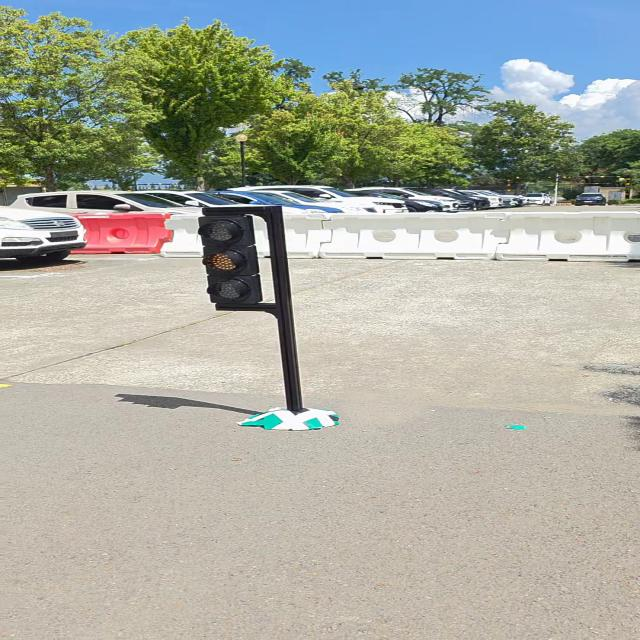yellow: (197, 214, 267, 306)
